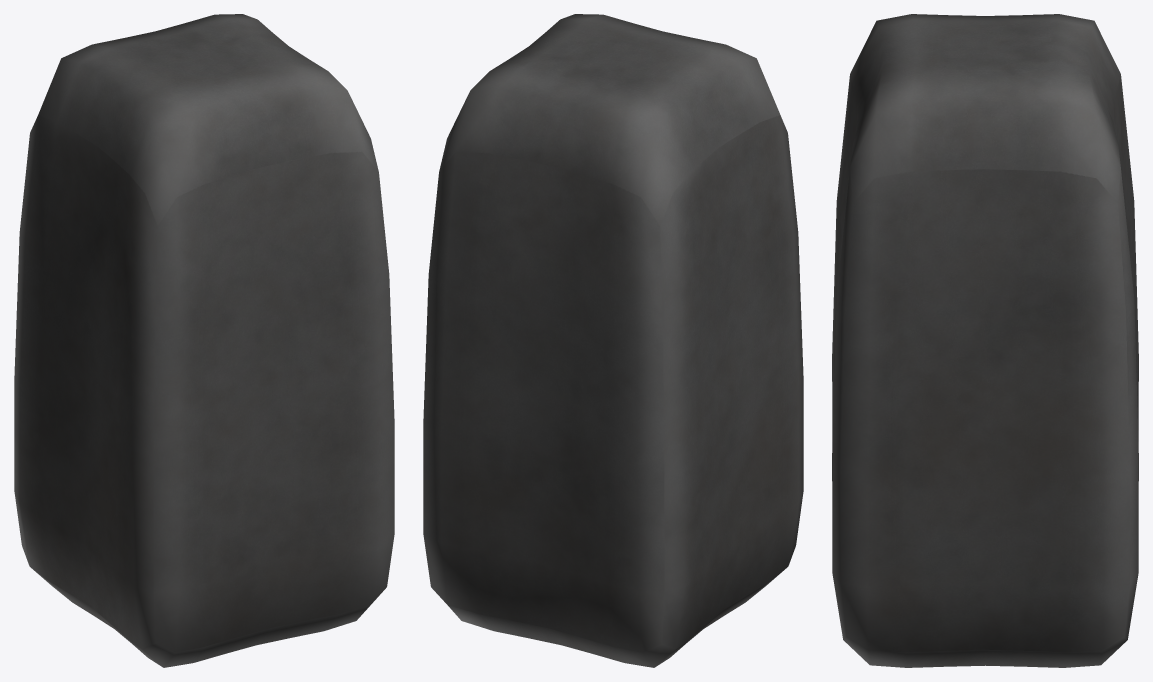
The model's file is lepší_kamen.fbx.
3 views of the same model, side by side, from view 1: azimuth 30°, elevation 25°; view 2: azimuth 150°, elevation 25°; view 3: azimuth 270°, elevation 25° (orthographic). The views are drawn at different scales.
Visible parts, largest first — view 1: dwayne; view 2: dwayne; view 3: dwayne.
Part boxes in pixels (box(x1,y1,x2,y2)): dwayne: box(14, 14, 394, 667); dwayne: box(423, 14, 803, 667); dwayne: box(832, 14, 1138, 667).
Bounding box in the file's own units: 467 × 963 × 467.
